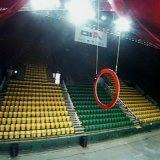Orange_Circle_GShape: (94, 68, 120, 109)
